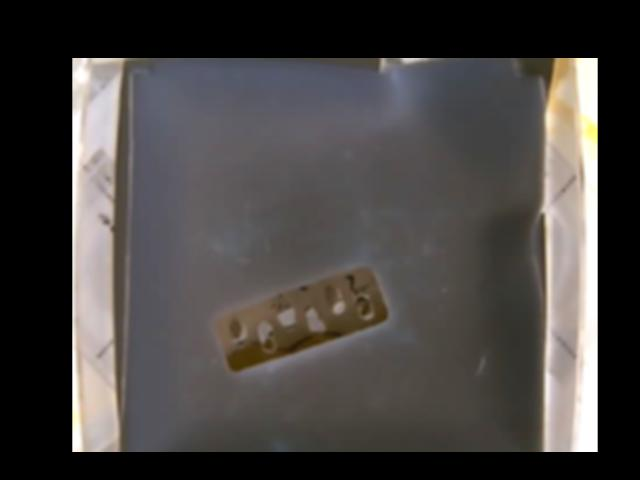Medicine: (215, 266, 388, 373)
